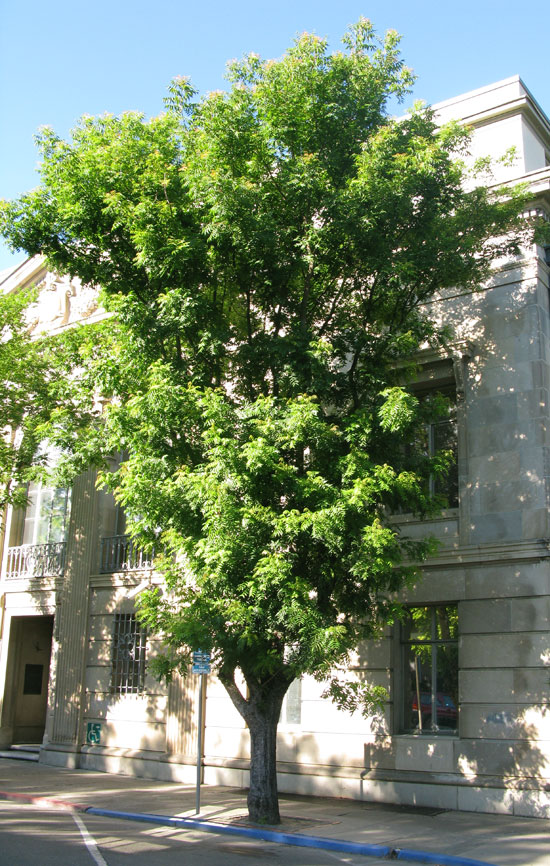tree: (1, 15, 546, 826)
